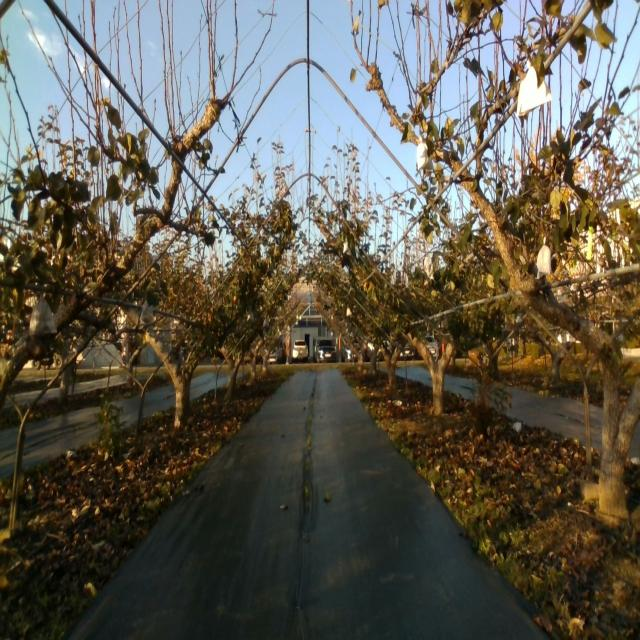pearbags: (517, 60, 552, 118), (29, 297, 58, 335), (536, 236, 552, 276), (417, 138, 433, 170), (423, 256, 434, 280), (141, 302, 154, 322)
